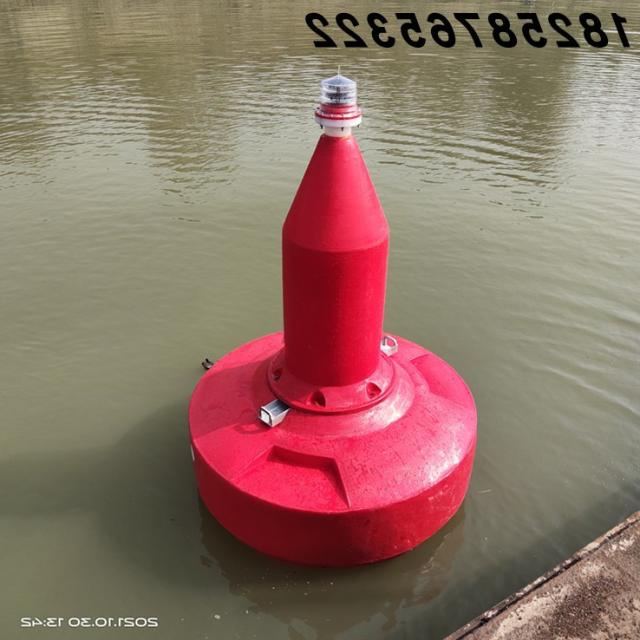buoy: (176, 65, 479, 556)
